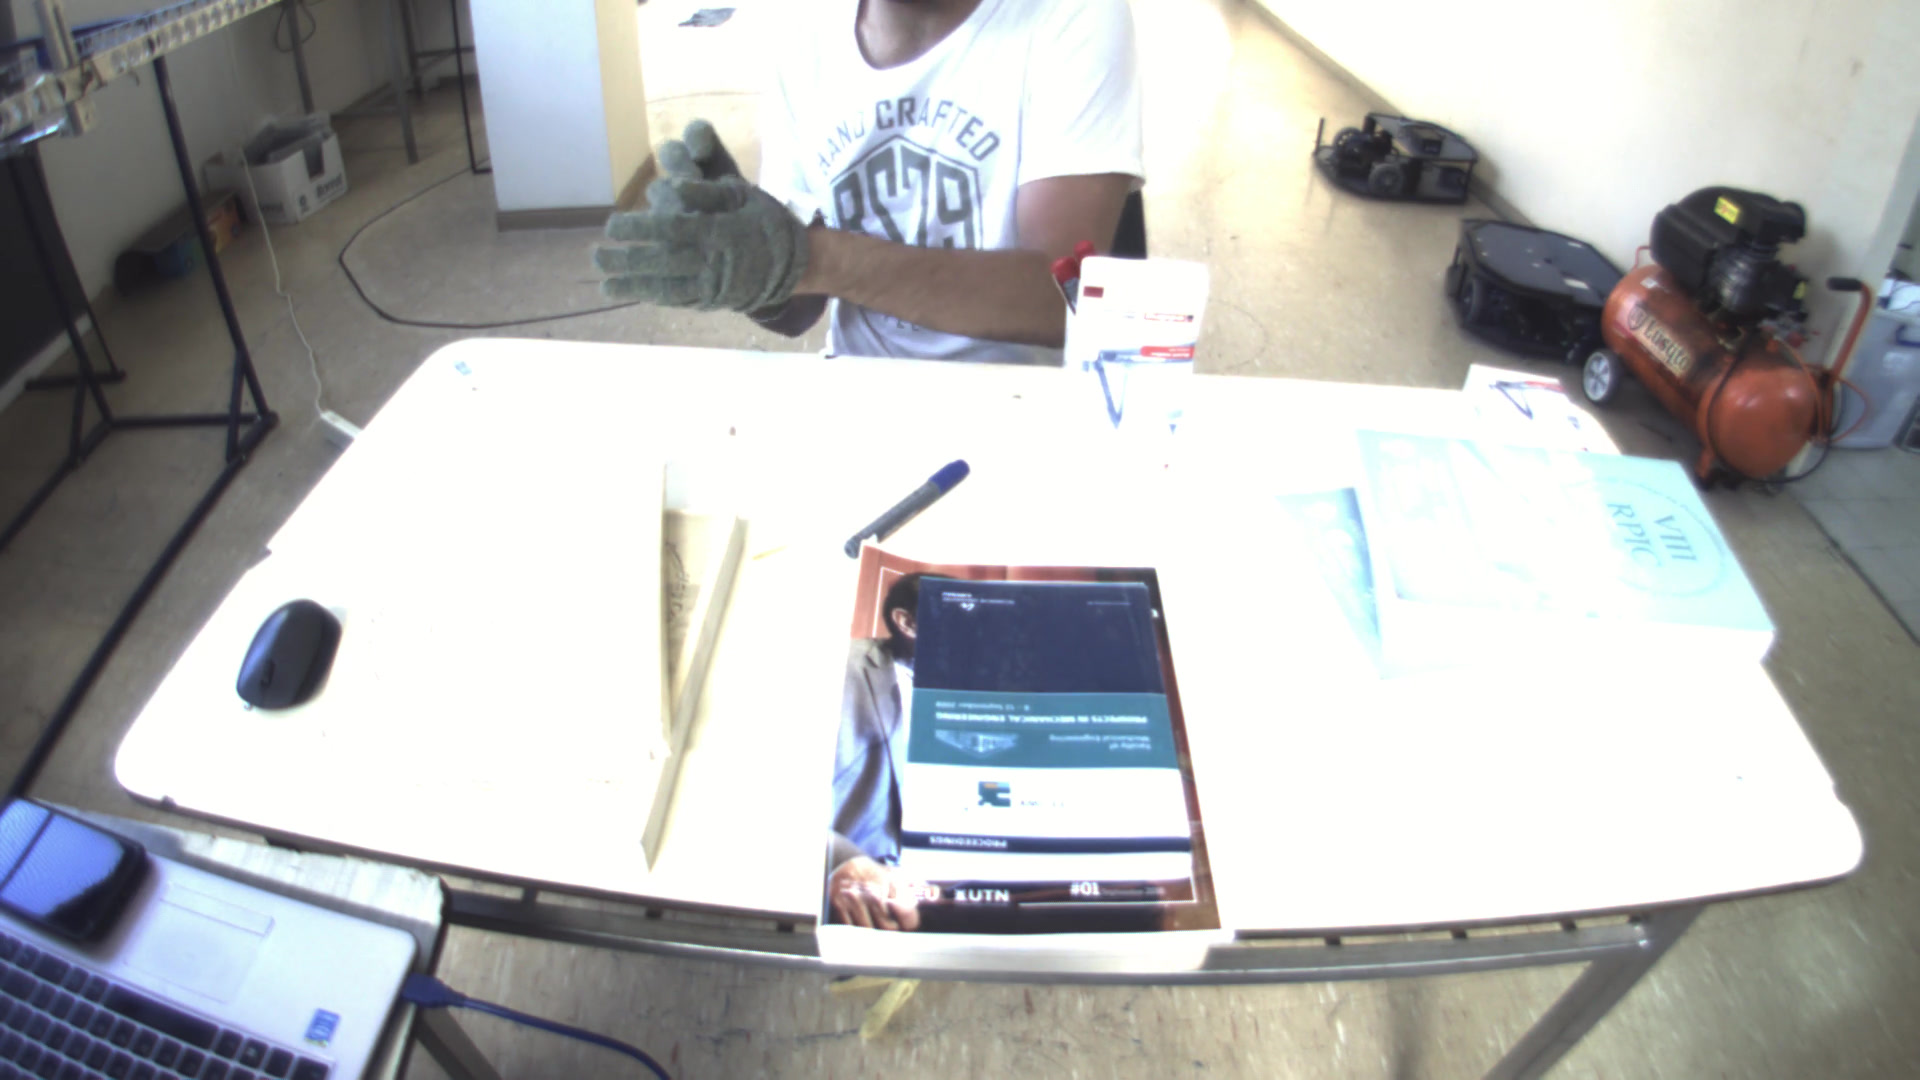hand: (587, 146, 814, 320)
